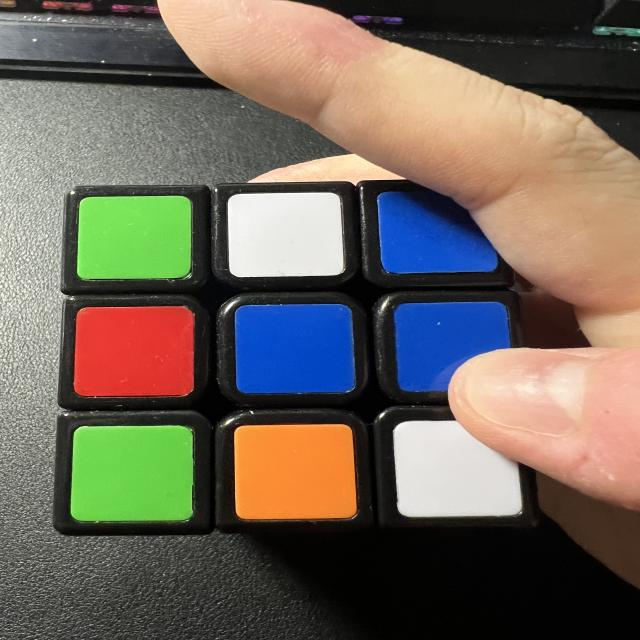blue: (379, 184, 499, 274), (397, 300, 509, 393)
center: (235, 305, 355, 395)
green: (72, 425, 194, 522), (77, 196, 194, 277)
orange: (235, 424, 356, 519)
red: (72, 306, 194, 395)
white: (388, 416, 521, 520), (228, 192, 345, 277)
